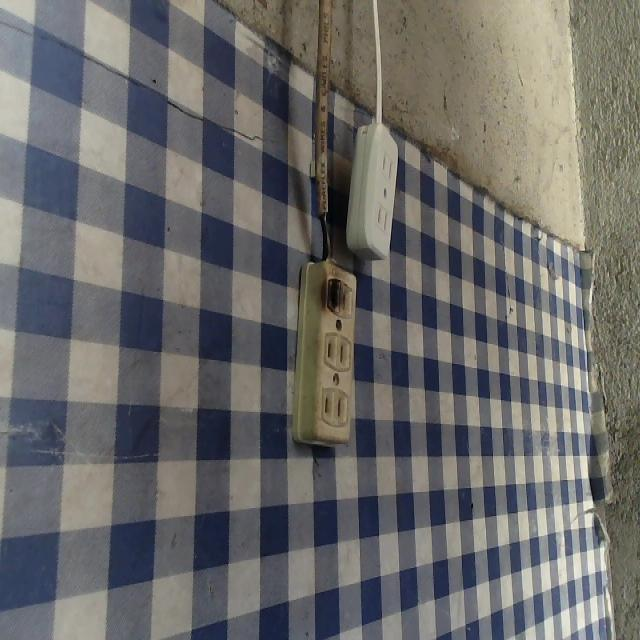-: (318, 270, 347, 318)
